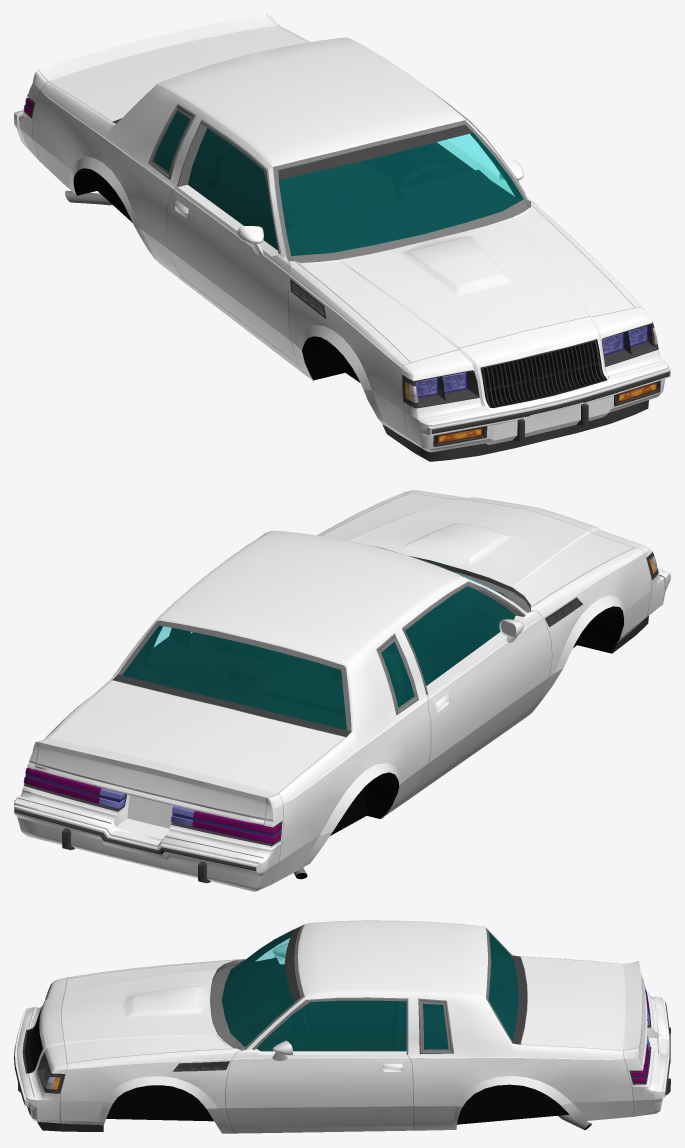
The model's file is Buick.FBX.
3 renders of one model, top to bottom at view 1: azimuth 30°, elevation 25°; view 2: azimuth 150°, elevation 25°; view 3: azimuth 270°, elevation 25°, orthographic. The views are drawn at different scales.
Parts seen in each view (by area): view 1: body; view 2: body; view 3: body.
Part boxes in pixels (x1,y1,x2,y2): body: [14, 14, 670, 461]; body: [14, 490, 670, 891]; body: [14, 920, 670, 1133].
Bounding box in the file's own units: 193 × 120 × 508.
Materials: 2 (1 with a texture image).
